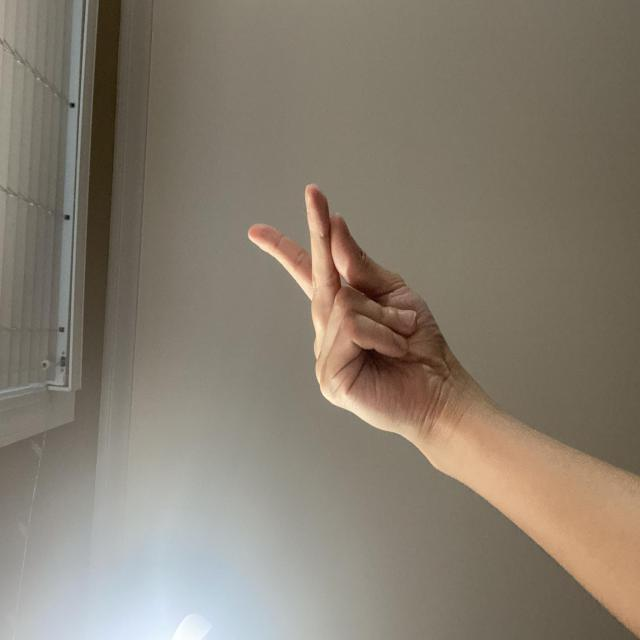P: (130, 322, 352, 622)
